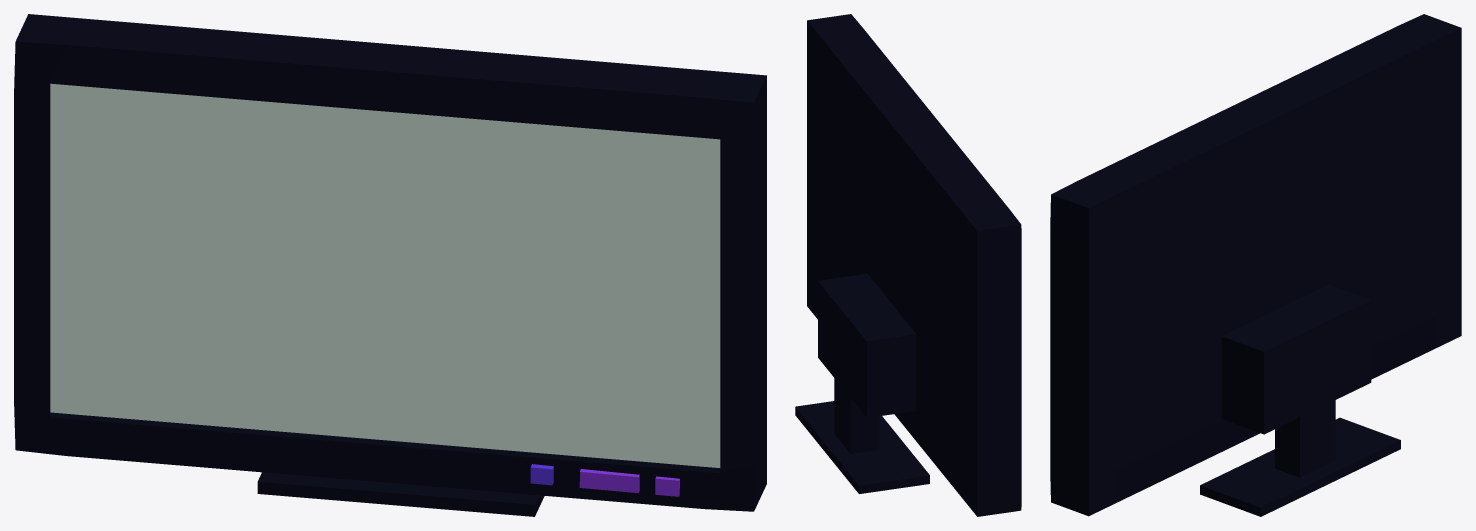
The model's file is RivenRoom_Monitor02.fbx.
3 views of the same model, side by side, from view 1: azimuth 30°, elevation 25°; view 2: azimuth 150°, elevation 25°; view 3: azimuth 270°, elevation 25° (orthographic). The views are drawn at different scales.
Visible parts, largest first — view 1: Cube.119; view 2: Cube.119; view 3: Cube.119.
Part boxes in pixels (box(x1,y1,x2,y2)): Cube.119: box(14, 14, 766, 516); Cube.119: box(795, 14, 1021, 516); Cube.119: box(1050, 14, 1461, 516).
Size of the model in its own units: 71.28 by 58.87 by 63.67.
